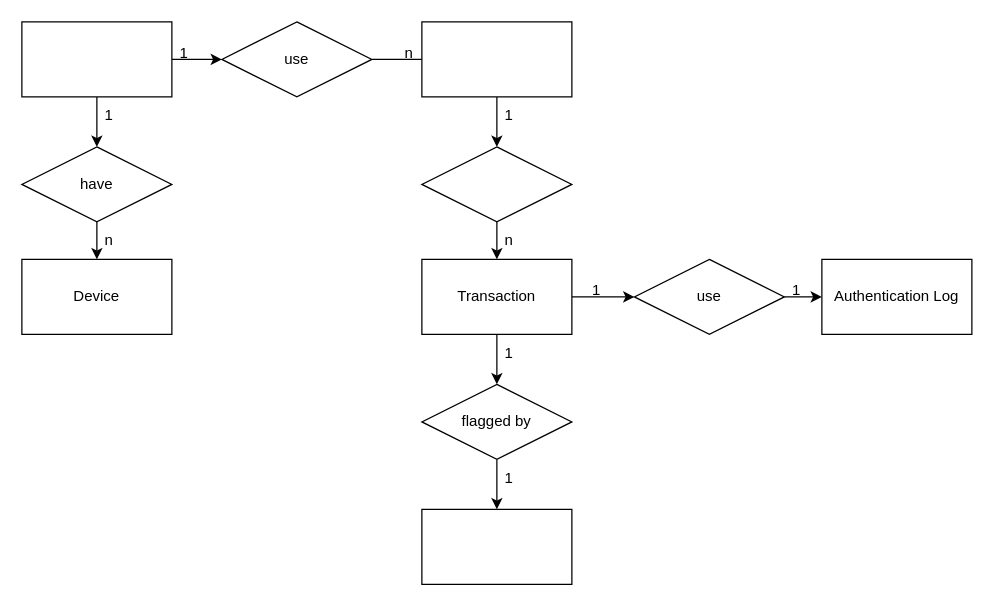
This 994x606 diagram has some shape labels left out. Here are the shapes that lost their labels. From the top down, the centre of each, then its label:
At point 96,59: "User".
At point 496,59: "Account".
At point 496,184: "execute".
At point 496,546: "Risk Tag".
